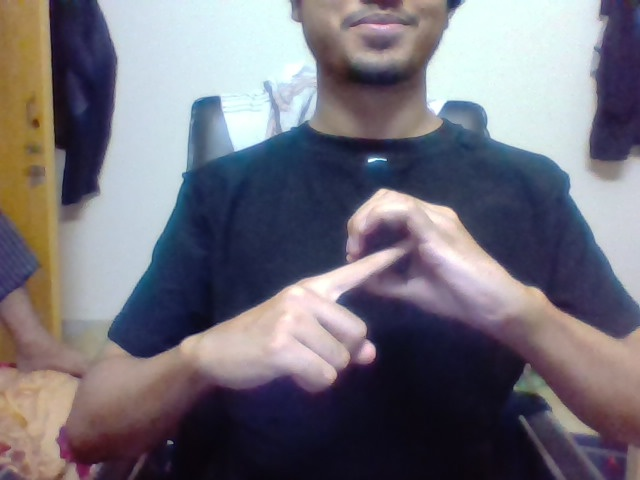Q: (355, 207, 435, 299)
